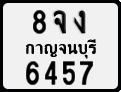letters: (62, 60, 77, 86), (32, 9, 47, 34), (79, 60, 94, 85), (25, 60, 39, 85), (44, 61, 58, 85), (53, 9, 66, 34), (74, 10, 86, 34)
province: (25, 38, 97, 59)
